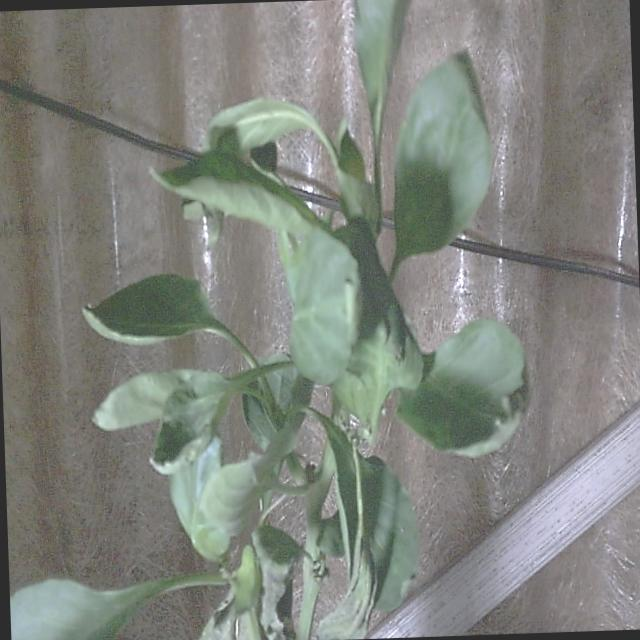Leaf: (388, 46, 498, 256), (394, 314, 534, 462), (144, 368, 244, 477), (80, 270, 215, 350)
